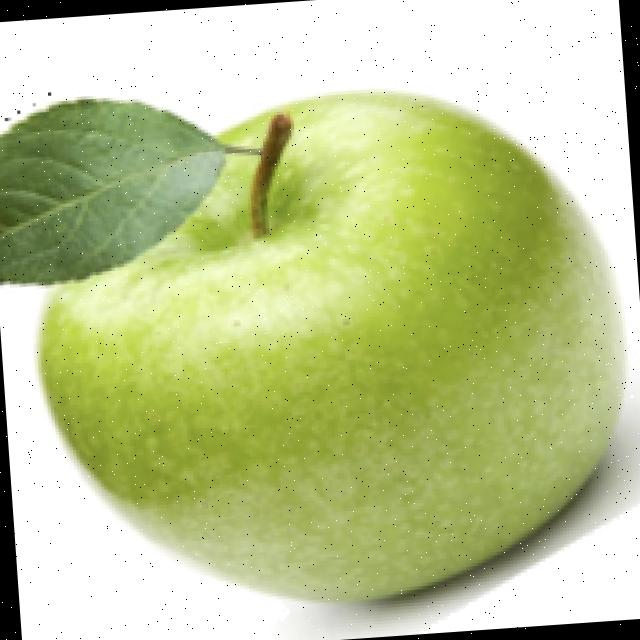apple: (0, 84, 640, 639)
